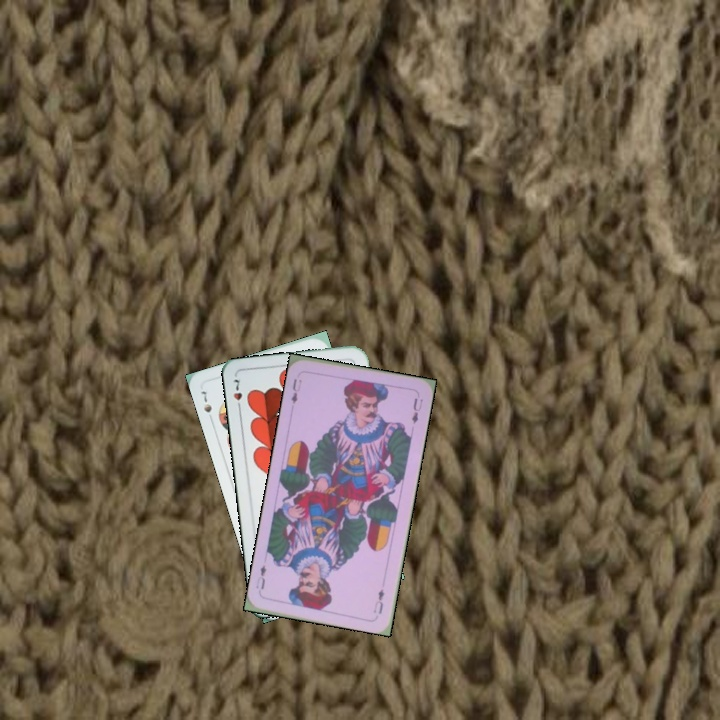EU: (287, 375, 305, 407), (369, 585, 387, 617)
H7: (229, 374, 245, 414)
S7: (196, 387, 215, 415)
